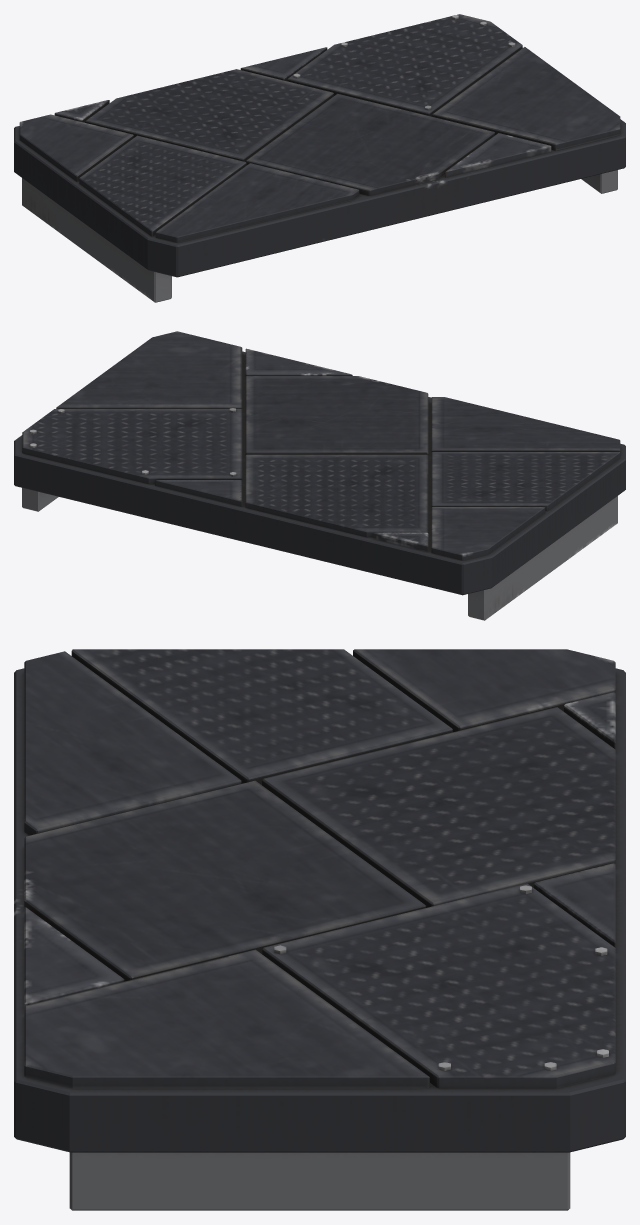
The model's file is nodexeus-set-deck-join.glb.
3 views of the same model, one above another, from view 1: azimuth 30°, elevation 25°; view 2: azimuth 150°, elevation 25°; view 3: azimuth 270°, elevation 25° (orthographic). The views are drawn at different scales.
Visible parts, largest first — view 1: set-deck-join; view 2: set-deck-join; view 3: set-deck-join.
Part boxes in pixels (<box>): set-deck-join: <box>14,14,625,302</box>; set-deck-join: <box>14,331,625,620</box>; set-deck-join: <box>14,649,625,1210</box>.
Bounding box in the file's own units: 5.94 × 0.89 × 3.51.
Materials: 1 (1 with a texture image).
